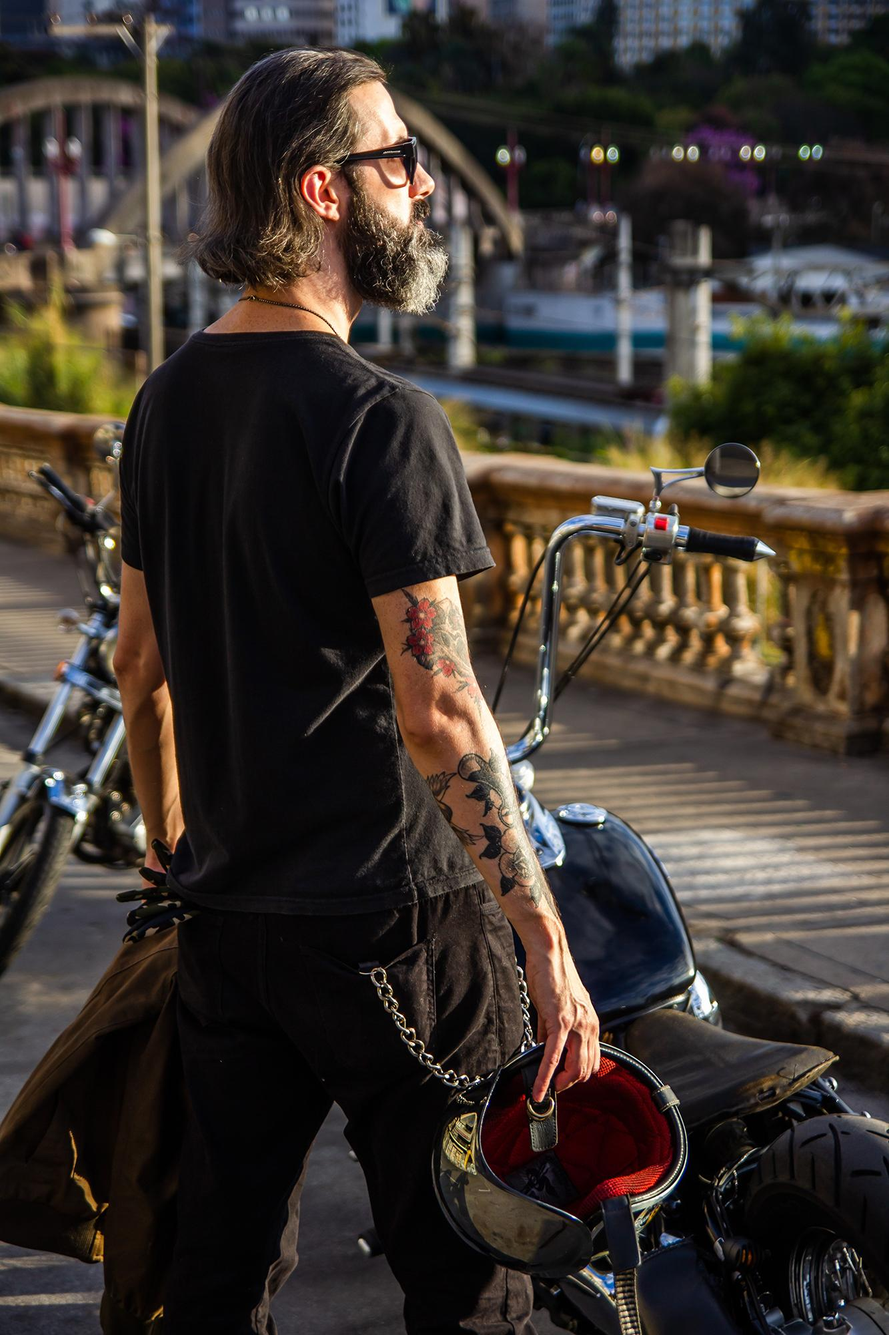helmet: (429, 1034, 691, 1281)
nohelmet: (187, 43, 451, 317)
